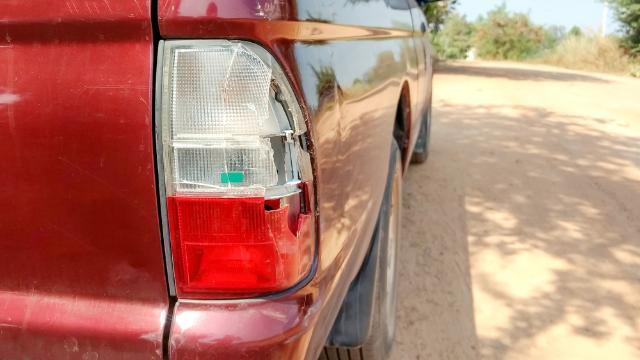lamp broken: (161, 40, 315, 300)
